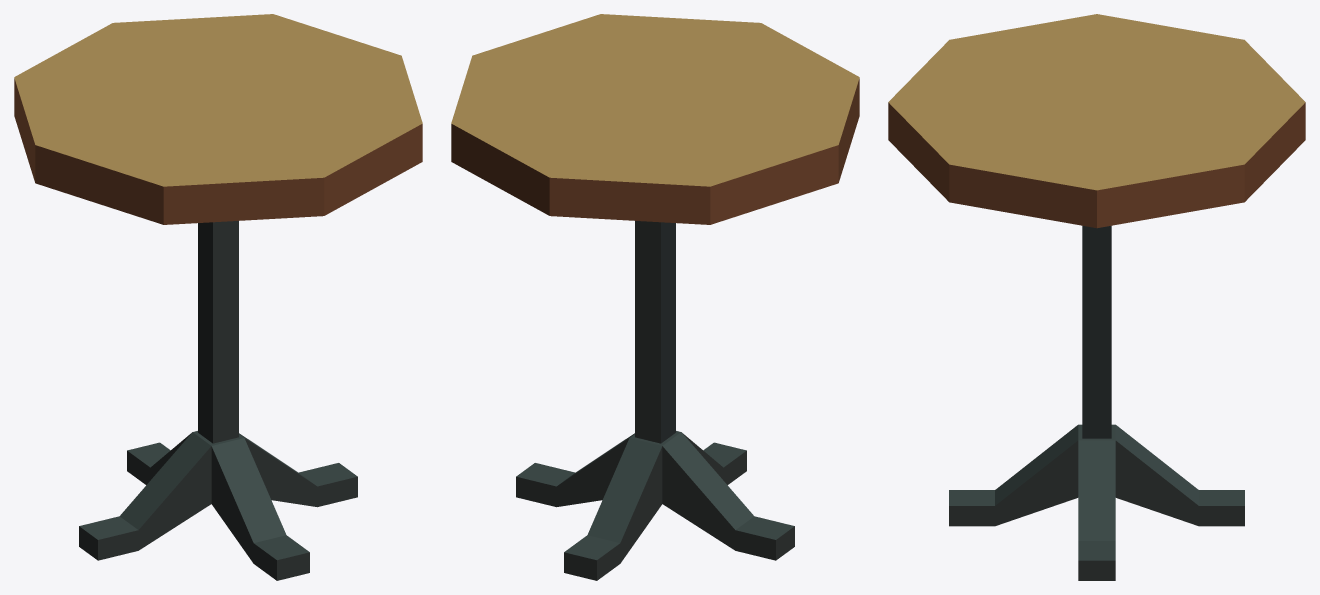
File: TB_CITY_Prop_Table_B.FBX
The picture shows the model from 3 angles, left to right: view 1: azimuth 30°, elevation 25°; view 2: azimuth 150°, elevation 25°; view 3: azimuth 270°, elevation 25°; orthographic projection.
Parts seen in each view (by area): view 1: TB_CITY_Prop_Table_B; view 2: TB_CITY_Prop_Table_B; view 3: TB_CITY_Prop_Table_B.
Boxes of the visible parts, bbox=[...] form: TB_CITY_Prop_Table_B: bbox=[14, 14, 422, 580]; TB_CITY_Prop_Table_B: bbox=[451, 14, 859, 580]; TB_CITY_Prop_Table_B: bbox=[888, 14, 1305, 580].
Size of the model in its own units: 1.21 by 1.33 by 1.21.
